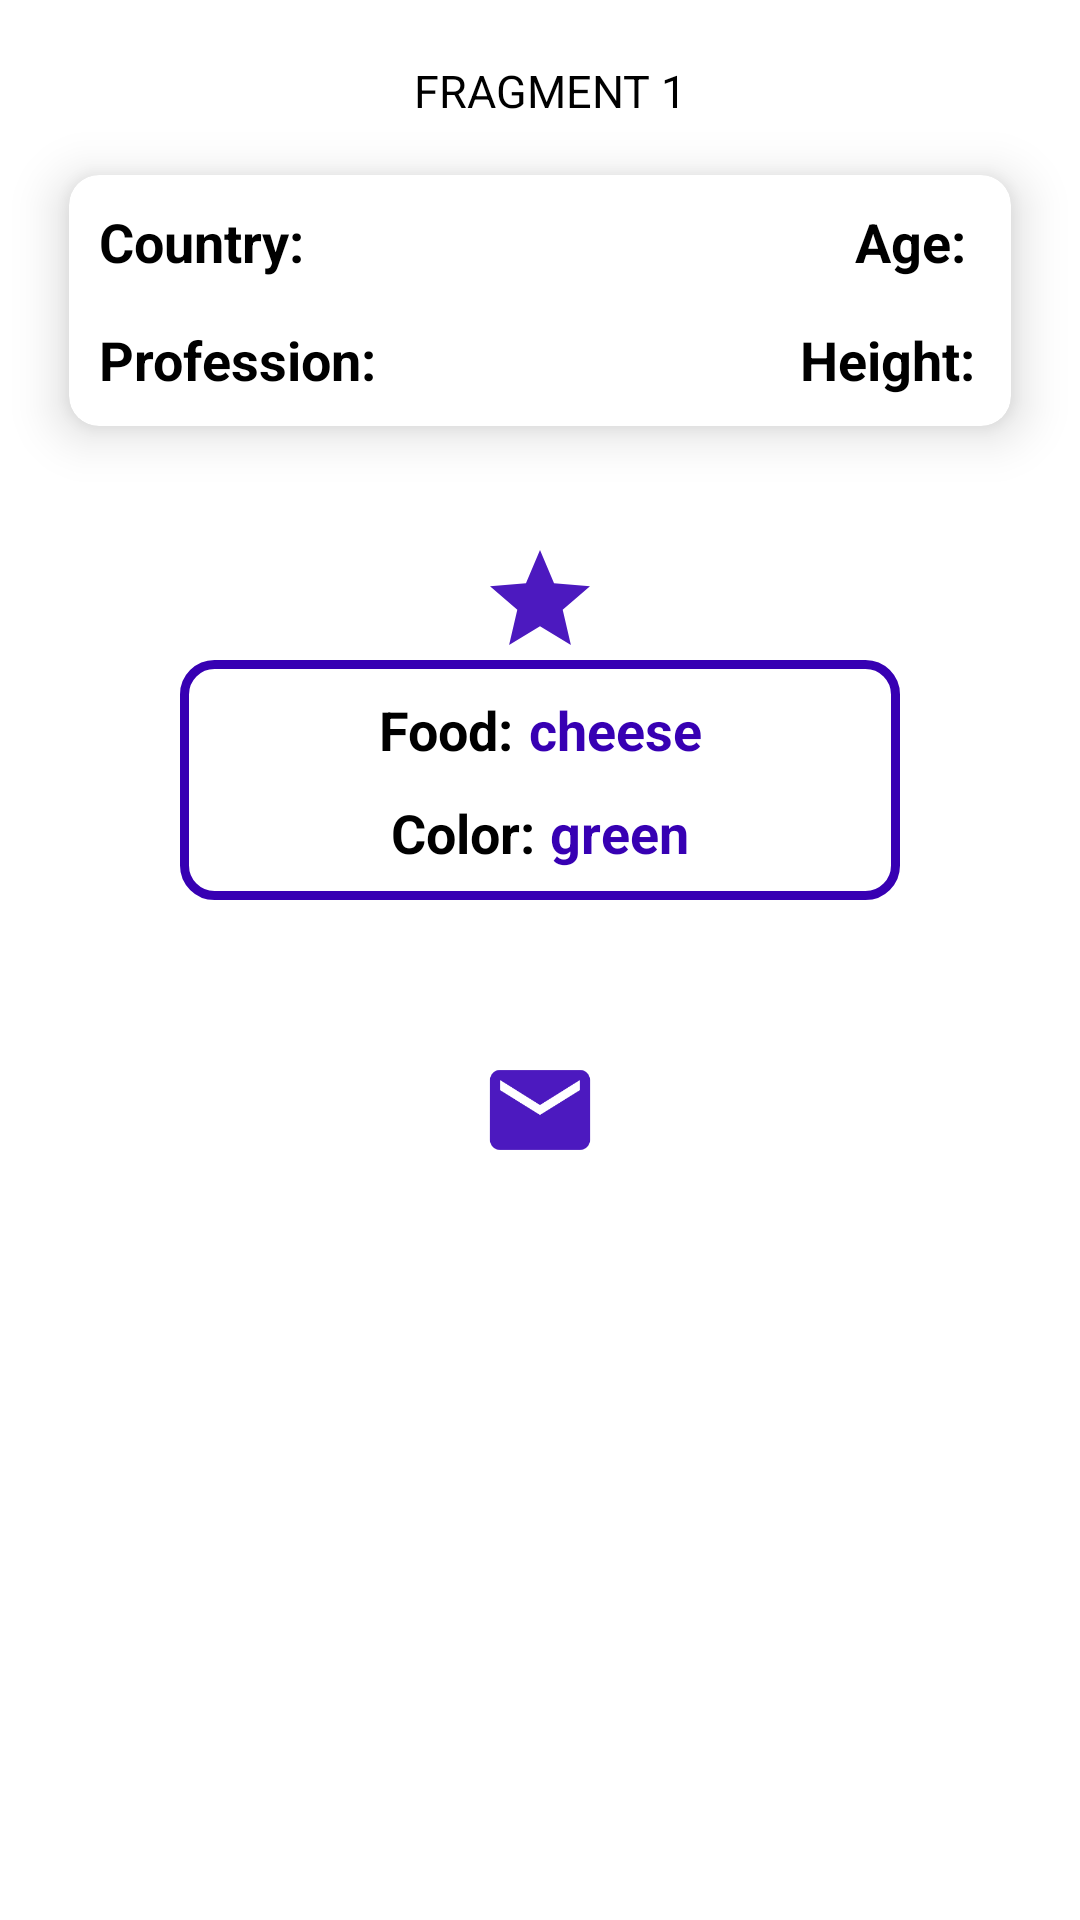

Point at icon controls on the screen. Image size 1080px×1920px, points as (x,y).
email: (540,1110)
star: (540,597)
